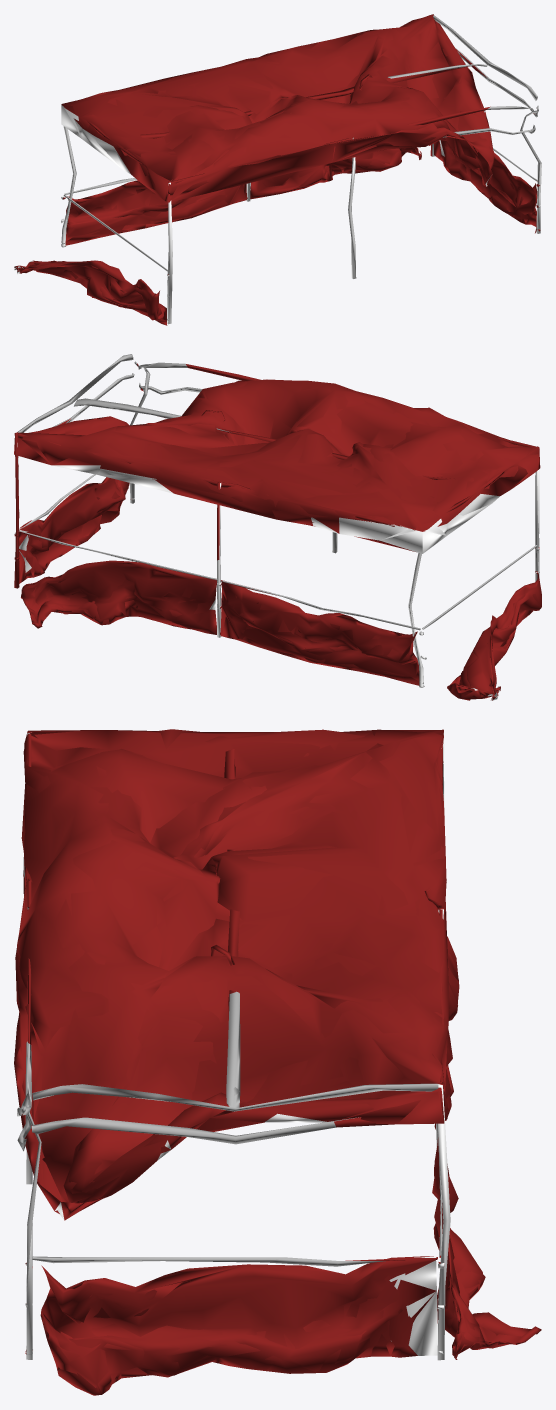
Rendered from Display_Tent_Red_Broken_decimated_point1.fbx.
3 views of the same model, one above another, from view 1: azimuth 30°, elevation 25°; view 2: azimuth 150°, elevation 25°; view 3: azimuth 270°, elevation 25° (orthographic). The views are drawn at different scales.
Parts seen in each view (by area): view 1: Display_Tent; view 2: Display_Tent; view 3: Display_Tent.
Part boxes in pixels (left/top/right/bottom): Display_Tent: left=14, top=14, right=541, bottom=325; Display_Tent: left=14, top=354, right=541, bottom=700; Display_Tent: left=14, top=729, right=541, bottom=1395.
Size of the model in its own units: 239 by 94.6 by 126.
